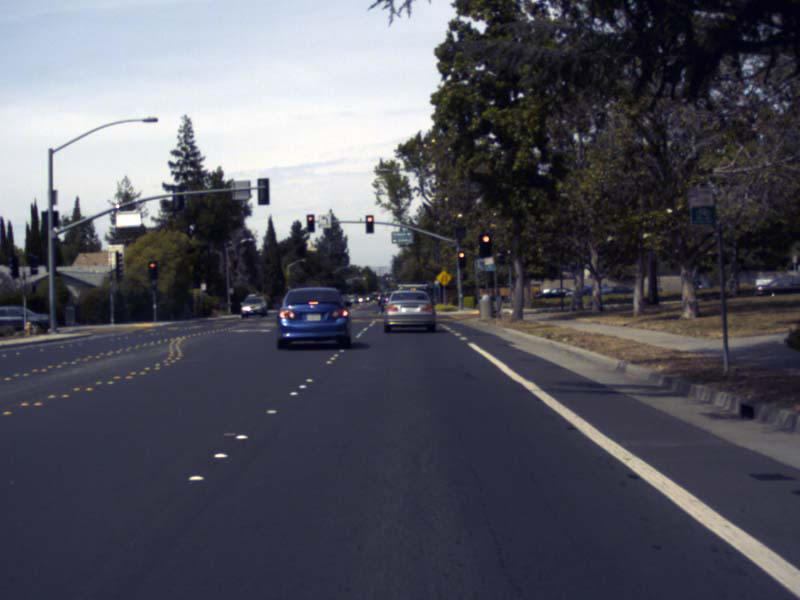Red: (481, 235, 490, 255), (149, 262, 156, 278), (366, 216, 373, 232), (307, 215, 313, 231), (458, 252, 464, 267)
